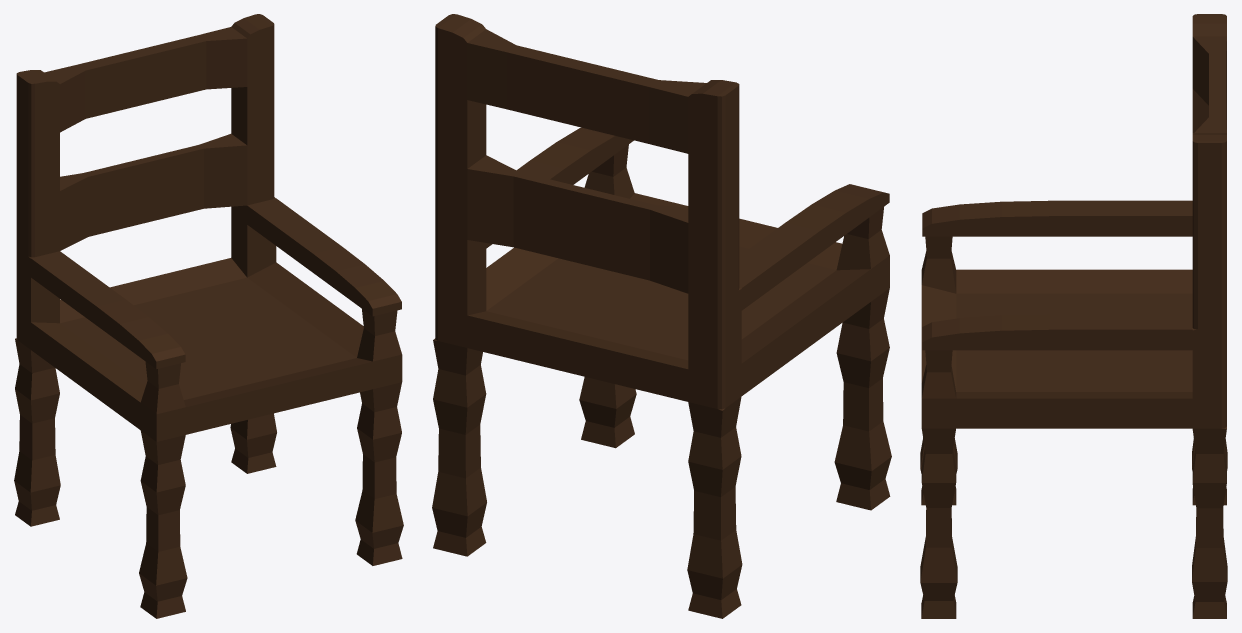
Rendered from Stolac-Prolac.fbx.
3 renders of one model, left to right at view 1: azimuth 30°, elevation 25°; view 2: azimuth 150°, elevation 25°; view 3: azimuth 270°, elevation 25°, orthographic. The views are drawn at different scales.
Parts seen in each view (by area): view 1: Cube.002; view 2: Cube.002; view 3: Cube.002.
Boxes of the visible parts, x1,y1,x2,y2 form: Cube.002: [14, 14, 403, 618]; Cube.002: [432, 14, 891, 618]; Cube.002: [920, 14, 1227, 618].
Bounding box in the file's own units: 225 × 383 × 224.
